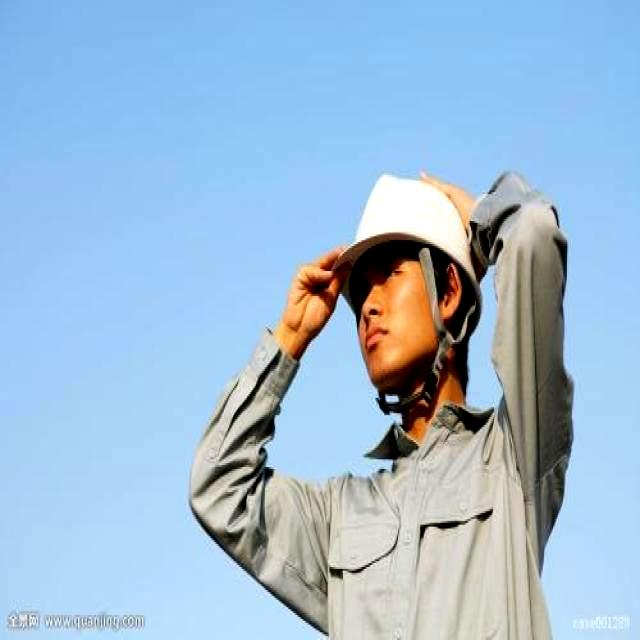hard_hat: (335, 175, 476, 283)
person: (189, 175, 572, 638)
